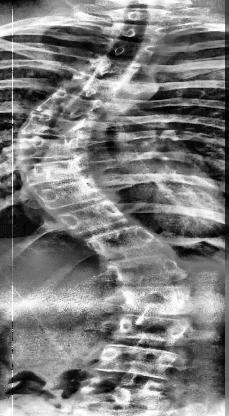Vertebrae: (97, 250, 189, 288), (90, 343, 182, 381), (55, 198, 136, 240), (111, 308, 193, 346), (112, 282, 196, 316), (85, 224, 159, 262), (32, 176, 110, 212), (32, 90, 117, 121), (54, 70, 134, 102), (17, 155, 91, 187), (73, 54, 156, 82), (19, 111, 93, 141), (89, 35, 165, 61), (14, 136, 90, 160), (100, 18, 172, 40), (106, 5, 178, 24)
